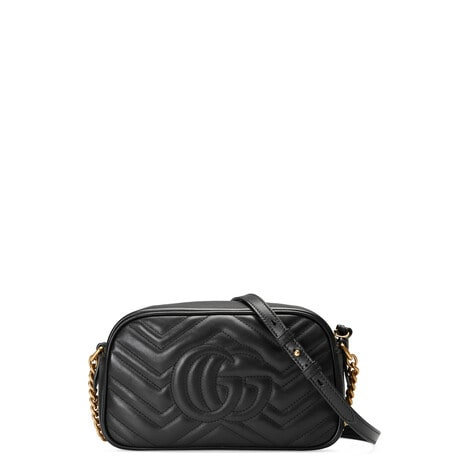Gucci: (85, 302, 377, 458), (168, 328, 287, 426)
